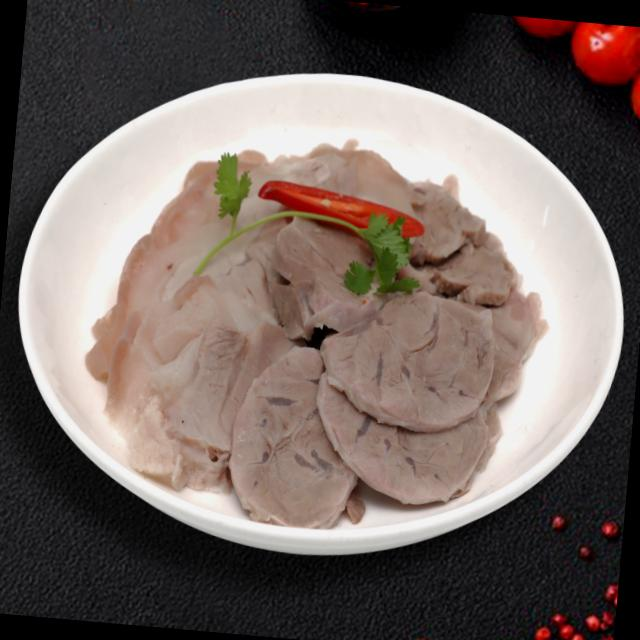rau ngo: (344, 213, 418, 293), (214, 152, 251, 229)
thit luoc: (86, 161, 373, 527), (317, 182, 547, 503), (236, 142, 432, 225)
